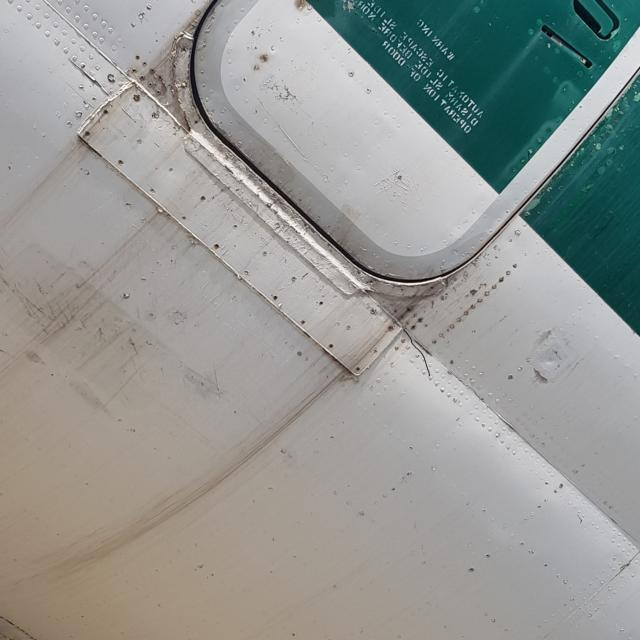Rupture: (391, 326, 441, 380)
